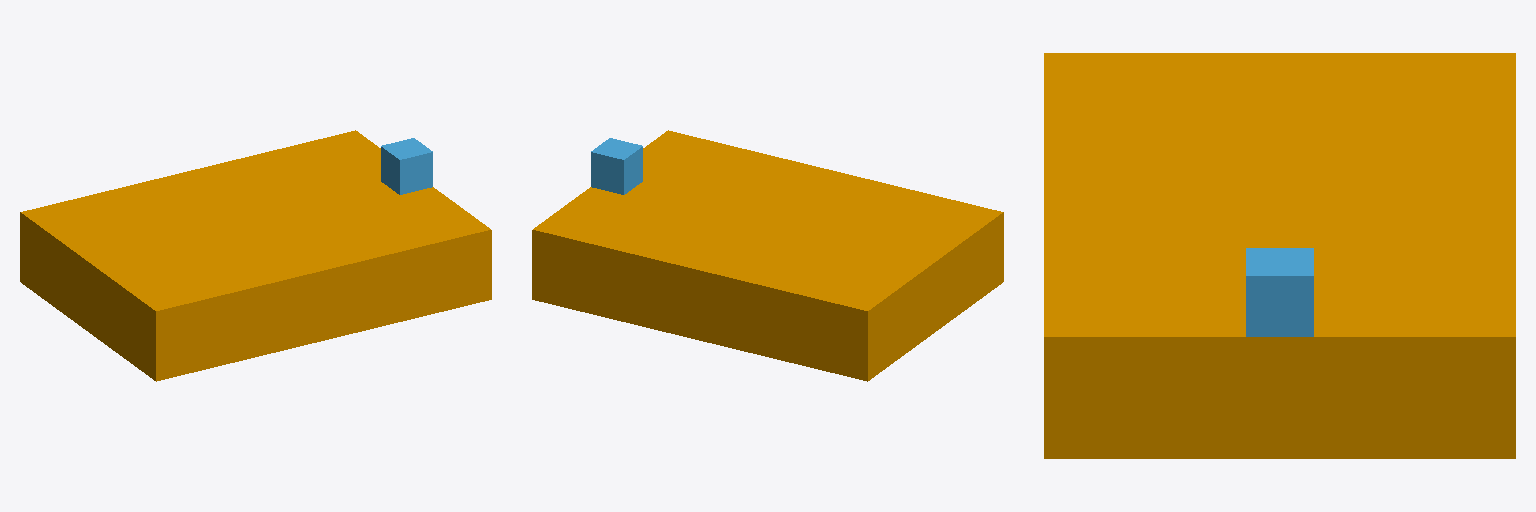
robot.urdf — ACR:
<?xml version="1.0"?>
<robot name="ACR">
  
  <link name="base_link">
    <visual>
      <geometry>
        <box size="1 .7 .2"/>
      </geometry>
    </visual>
  </link>

    <link name="base_scan">
      <visual>
        <geometry>
          <box size=".1 .1 .1"/>
        </geometry>
      </visual>
    </link>

   <joint name="my_joint" type="fixed">
	   <origin xyz=".45 0 .15"/>
    <parent link="base_link"/>
    <child link="base_scan"/>
  </joint>

</robot>

--- Render facts (derived) ---
Views: 3 orthographic renders of the robot side by side, from view 1: azimuth 30°, elevation 25°; view 2: azimuth 150°, elevation 25°; view 3: azimuth 270°, elevation 25°.
Robot: ACR — 2 links, 1 joints (1 fixed); root link base_link; default pose: all joints at 0.
Visible links, largest first — view 1: base_link, base_scan; view 2: base_link, base_scan; view 3: base_link, base_scan.
Link boxes in pixels (<box>): base_link: <box>20,130,491,381</box>; base_scan: <box>381,138,432,194</box>; base_link: <box>532,130,1003,381</box>; base_scan: <box>591,138,642,194</box>; base_link: <box>1044,53,1515,458</box>; base_scan: <box>1246,248,1313,336</box>.
Size in the robot's own frame: 1 by 0.7 by 0.3 metres.
Geometry: primitives only (box / cylinder / sphere), no mesh files.